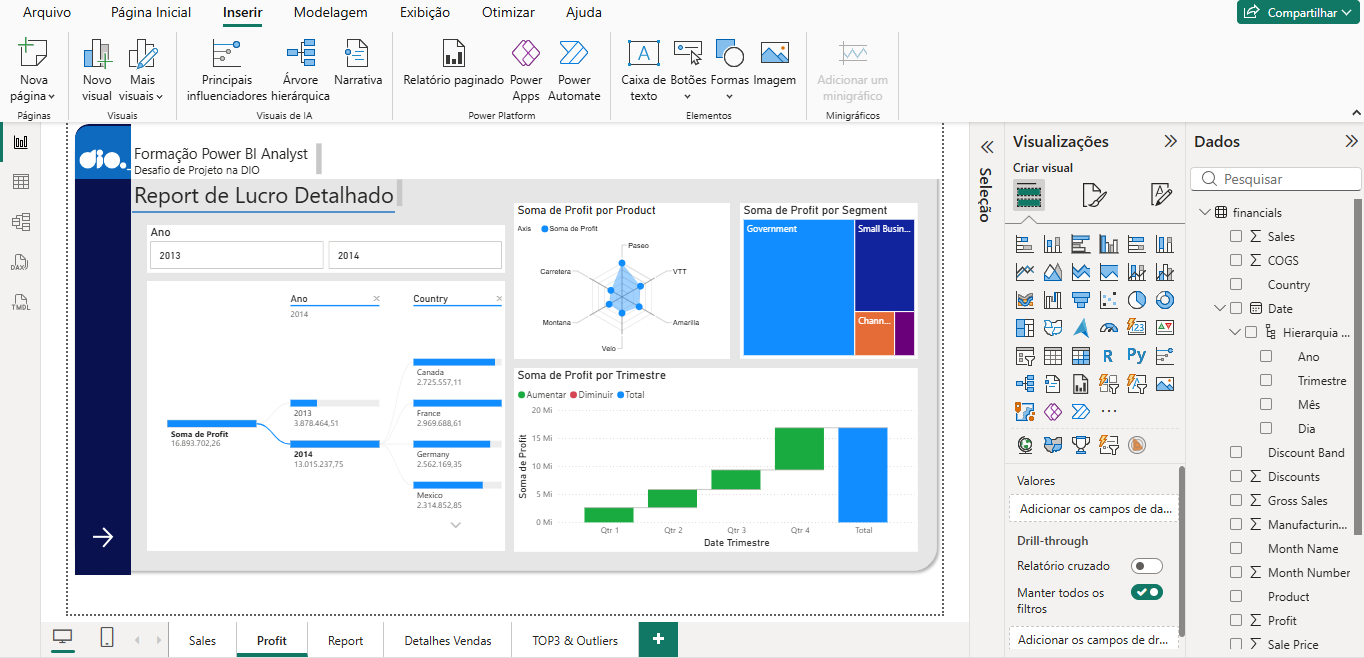

The dashboard page shown, as its layout file describes it:
{"tool":"powerbi","page":{"name":"Profit","canvas":[1280,720],"ordinal":1},"visuals":[{"type":"shape","box":[0,0,1280.5,665.9],"z":0},{"type":"textbox","box":[92.4,79.3,402.4,51.2],"z":0,"group":"g1"},{"type":"shape","box":[10.2,2.9,82,660],"z":1000},{"type":"shape","box":[94.2,7.6,384.9,248.8],"z":1000,"group":"g1"},{"type":"shape","box":[10.2,5.9,82,77.6],"z":2000},{"type":"image","title":"logo DIO","box":[10.2,16.1,92.2,77.6],"z":3000},{"type":"shape","box":[91.7,5.9,1188.3,77.6],"z":4000},{"type":"textbox","box":[92.2,26.3,283.9,57.1],"z":5000},{"type":"group","id":"g1","title":"Title Report","box":[92.4,7.6,403,248.5],"z":6000},{"type":"treemap","fields":{"Group":["financials.Segment"],"Values":["Sum(financials.Profit)"]},"box":[983.4,118.5,260.5,228.3],"z":7000},{"type":"waterfallChart","fields":{"Category":["financials.Date.Variation.Hierarquia de datas.Trimestre"],"Y":["Sum(financials.Profit)"]},"box":[652.7,360,591.2,269.3],"z":8000},{"type":"decompositionTreeVisual","fields":{"Analyze":["Sum(financials.Profit)"],"ExplainBy":["financials.Date.Variation.Hierarquia de datas.Ano","financials.Country"]},"box":[115.2,233.3,524.2,395.5],"z":9000},{"type":"RadarChart1446119667547","fields":{"Y":["Sum(financials.Profit)"],"Category":["financials.Product"]},"box":[652.7,118.5,316.1,228.3],"z":10000},{"type":"advancedSlicerVisual","fields":{"Values":["financials.Date.Variation.Hierarquia de datas.Ano"]},"box":[115.2,150,524.2,69.7],"z":11000},{"type":"actionButton","box":[30.7,588.3,39.5,39.5],"z":12000}]}

Visuals, with their boxes on the page's 1280x720 design canvas (x1, y1, x2, y2). These are canvas units, not pixel positions in the 1364x658 screenshot, which may show the page scaled, cropped or inside an application window:
shape: bbox=(0, 0, 1280, 666)
textbox: bbox=(92, 79, 495, 130)
shape: bbox=(10, 3, 92, 663)
shape: bbox=(94, 8, 479, 256)
shape: bbox=(10, 6, 92, 84)
"logo DIO" image: bbox=(10, 16, 102, 94)
shape: bbox=(92, 6, 1280, 84)
textbox: bbox=(92, 26, 376, 83)
"Title Report" group: bbox=(92, 8, 495, 256)
treemap - financials.Segment x Sum(financials.Profit): bbox=(983, 118, 1244, 347)
waterfallChart - financials.Date.Variation.Hierarquia de datas.Trimestre x Sum(financials.Profit): bbox=(653, 360, 1244, 629)
decompositionTreeVisual - Sum(financials.Profit) x financials.Date.Variation.Hierarquia de datas.Ano: bbox=(115, 233, 639, 629)
RadarChart1446119667547 - Sum(financials.Profit) x financials.Product: bbox=(653, 118, 969, 347)
advancedSlicerVisual - financials.Date.Variation.Hierarquia de datas.Ano: bbox=(115, 150, 639, 220)
actionButton: bbox=(31, 588, 70, 628)
